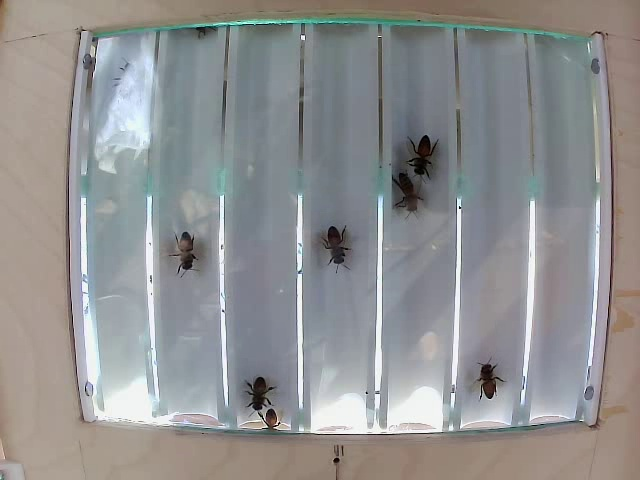bee: (170, 228, 202, 278), (404, 129, 436, 177), (322, 222, 351, 273), (477, 358, 507, 407), (389, 168, 419, 216), (248, 372, 273, 415)
